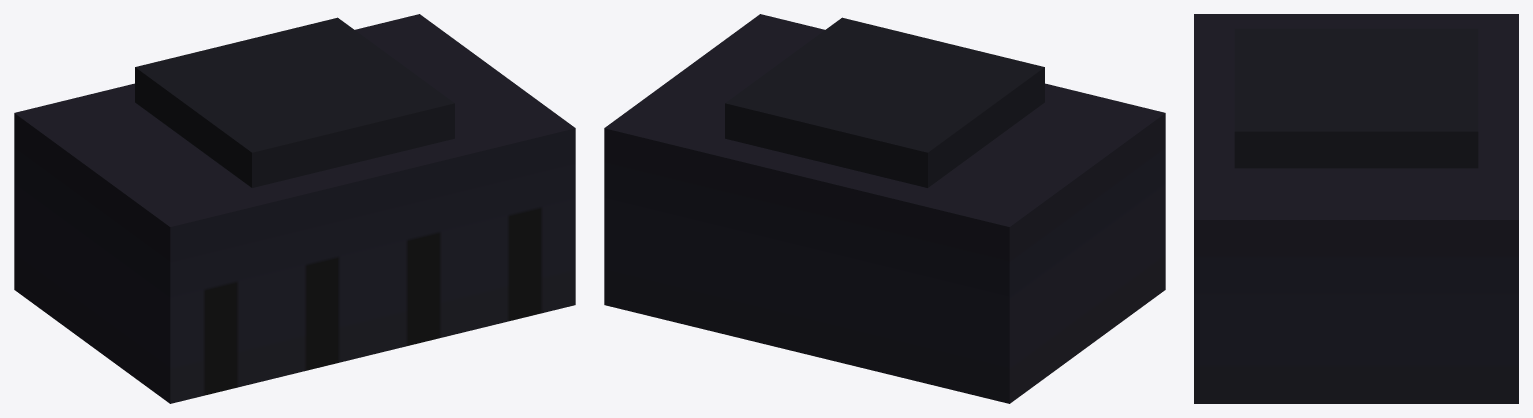
Rendered from Chest079.fbx.
The picture shows the model from 3 angles, left to right: view 1: azimuth 30°, elevation 25°; view 2: azimuth 150°, elevation 25°; view 3: azimuth 270°, elevation 25°; orthographic projection. The views are drawn at different scales.
Visible parts, largest first — view 1: Chest079; view 2: Chest079; view 3: Chest079.
Part boxes in pixels (box(x1,y1,x2,y2)): Chest079: box(14, 14, 575, 403); Chest079: box(604, 14, 1165, 403); Chest079: box(1194, 14, 1518, 403).
Bounding box in the file's own units: 12 × 6 × 8.
